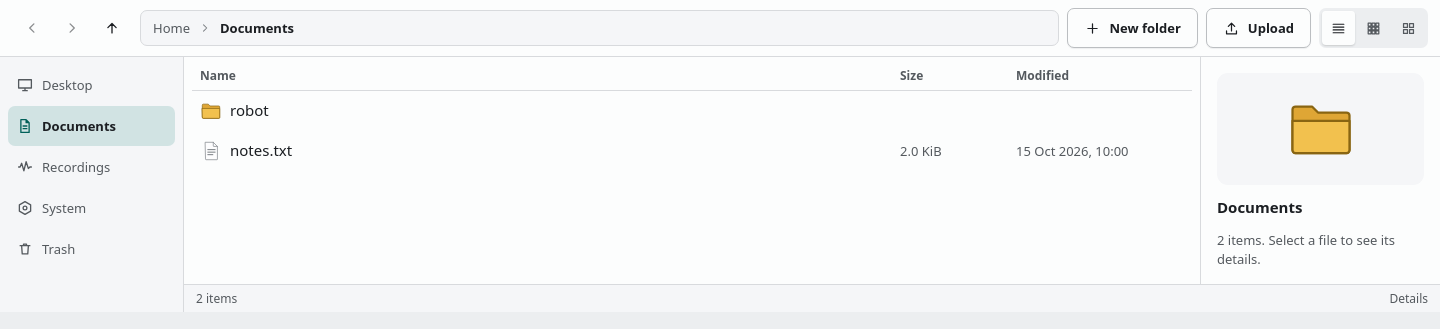
Test: Files › lists a folder with sizes, and opens a subfolder with a double click
The width and height of the screenshot is (1440, 329).
Expected: the text "2.0 KiB" is shown, [900, 142, 942, 160]
Double-click the option "robot" at (234, 111), box [200, 100, 269, 122]
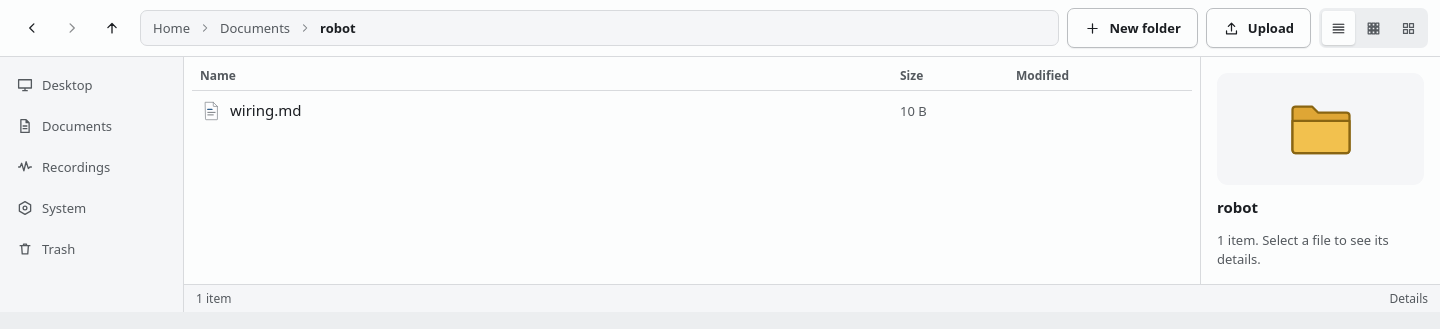
Expected: the option "wiring.md 10 B" is shown, [200, 100, 927, 122]
Expected: the navigation bar named "Folder path" reads "Home Documents robot", [140, 10, 1060, 46]
Click the button named "Back" at (32, 28), box [12, 8, 52, 48]
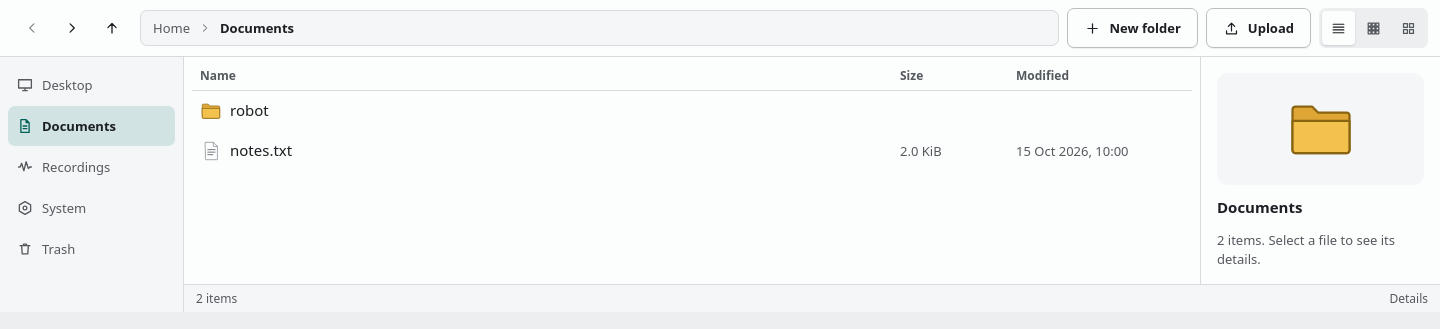
Expected: the button named "Forward" is enabled, [52, 8, 92, 48]
Expected: the option "notes.txt 2.0 KiB 15 Oct 2026, 10:00" is shown, [200, 140, 1129, 162]
